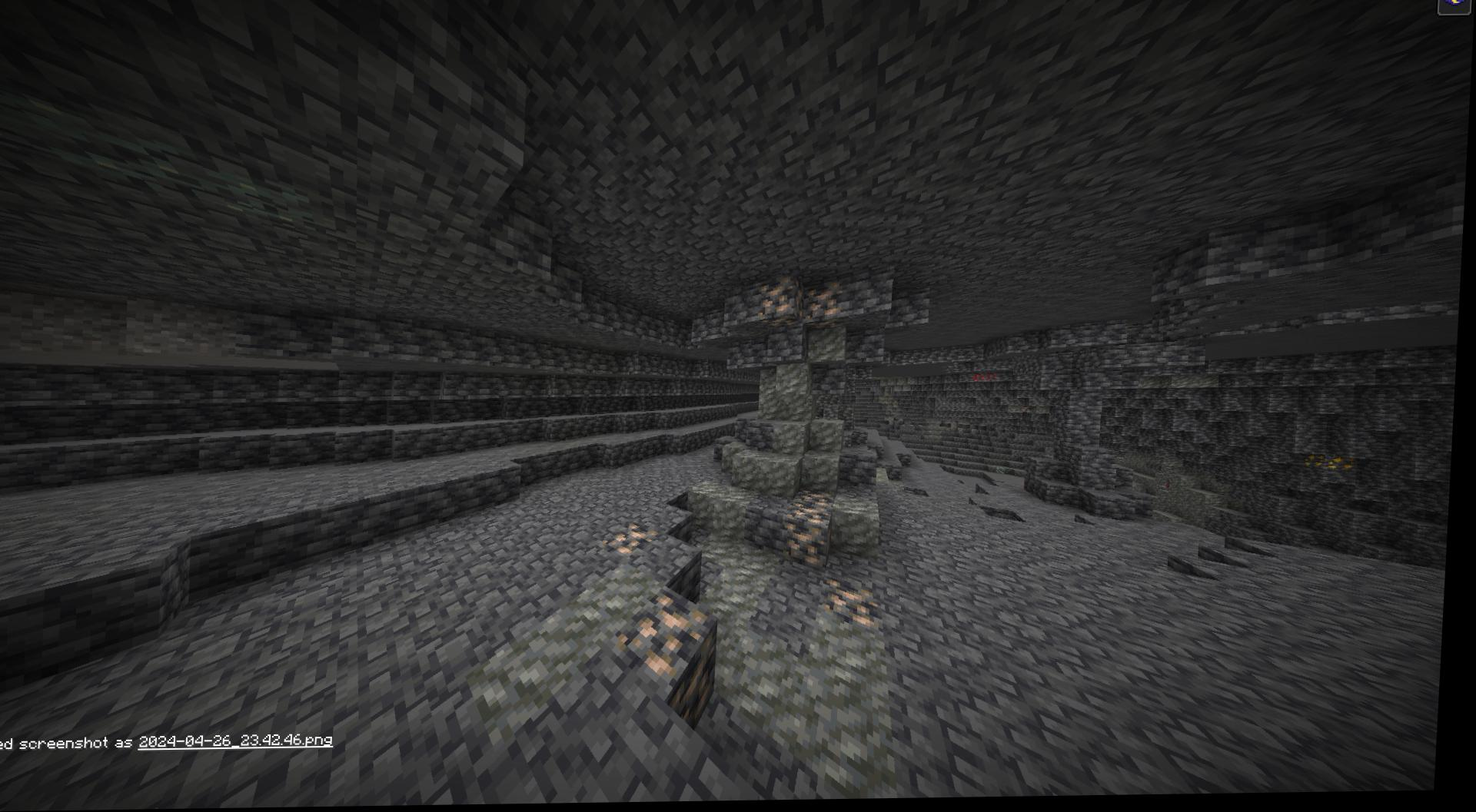gold ore: (1314, 450, 1356, 476)
iron ore: (618, 599, 709, 688), (832, 578, 896, 635), (783, 521, 835, 573), (611, 521, 662, 558), (765, 279, 806, 325), (810, 286, 846, 330), (795, 490, 837, 526)
redstone ore: (972, 366, 1006, 390)
